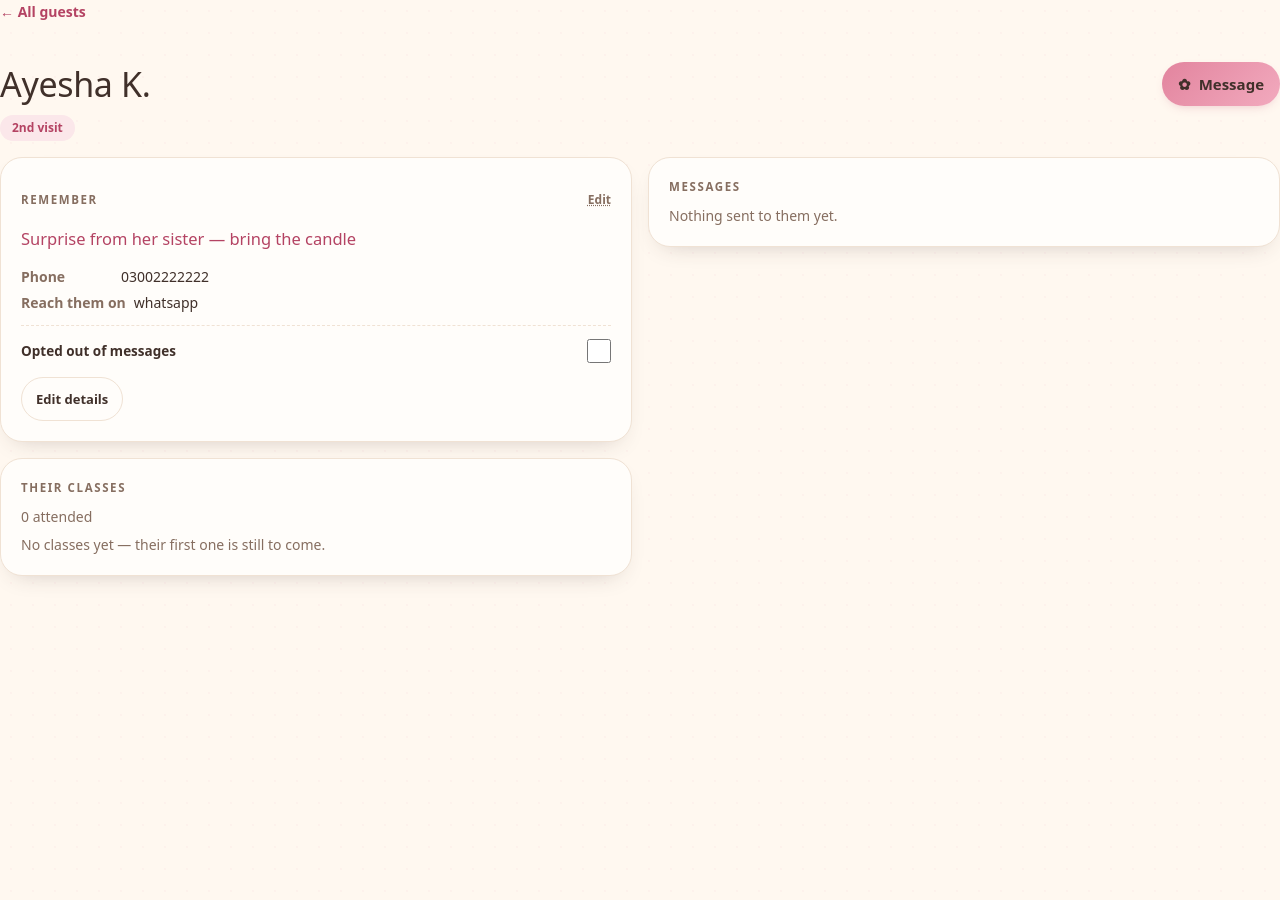
Test: GuestProfile · editing › surfaces a refusal instead of claiming it saved
Click the button "Edit details" at (72, 399), box [21,377,123,421]
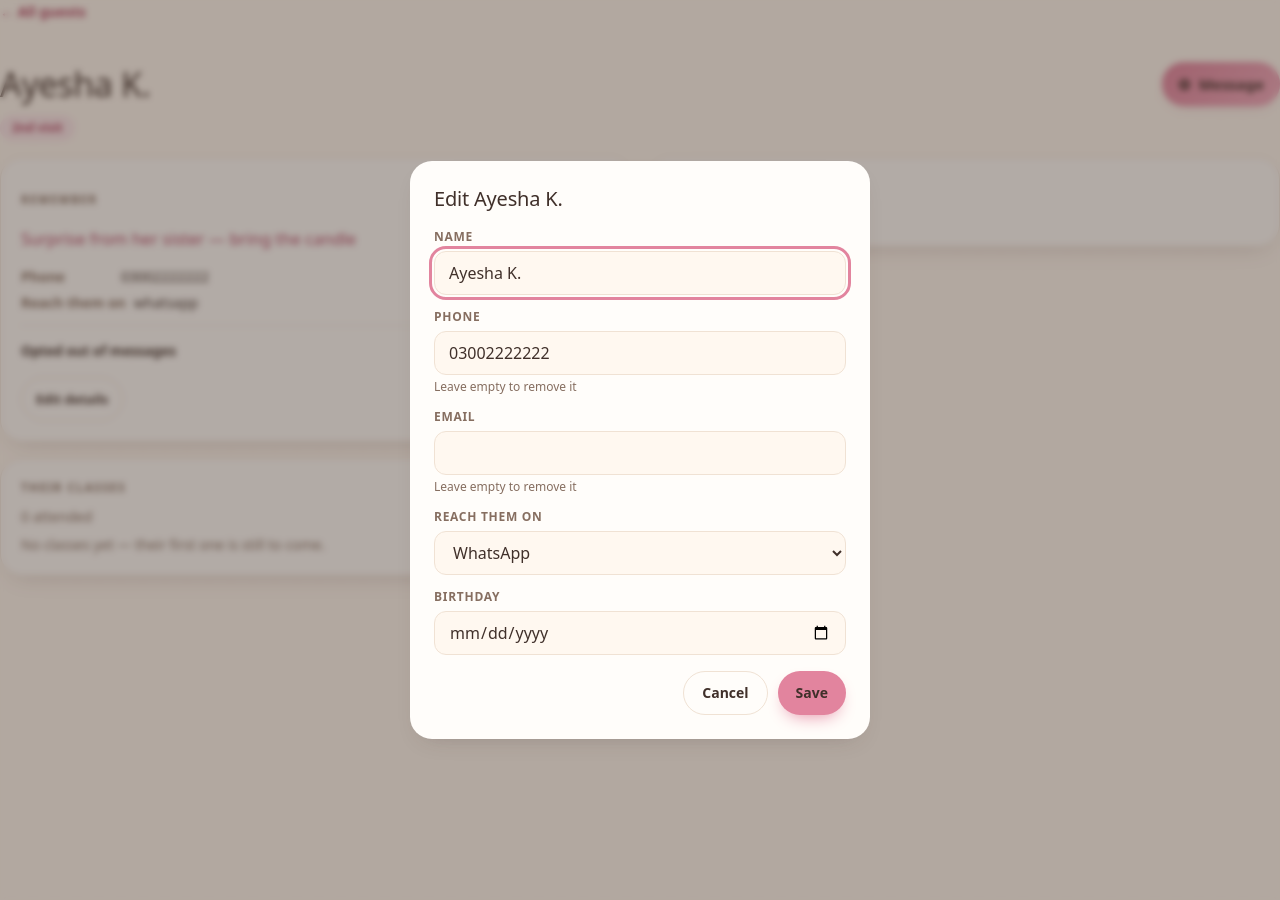
Click the button "Save" at (812, 693), box [778,671,846,715]
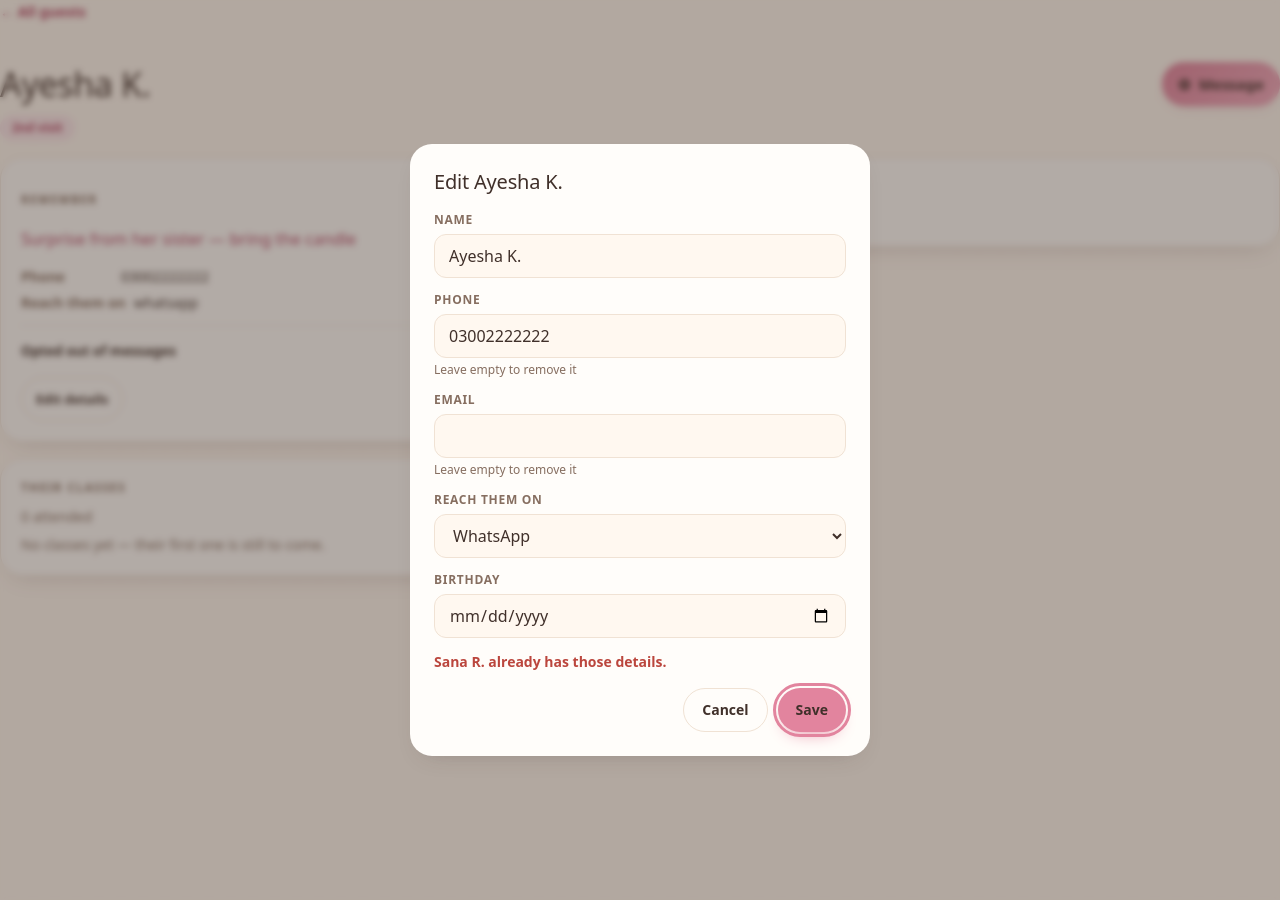
Check: the message shows "already has those details", box [434,652,667,671]
